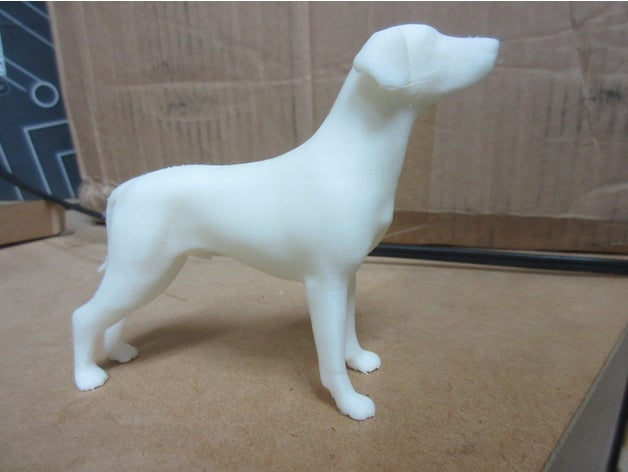Good: (49, 15, 503, 429)
